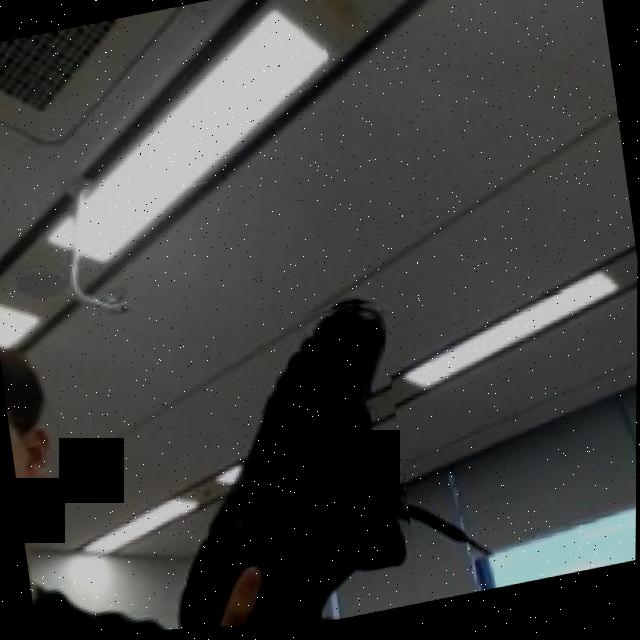shoe: (140, 296, 424, 633)
